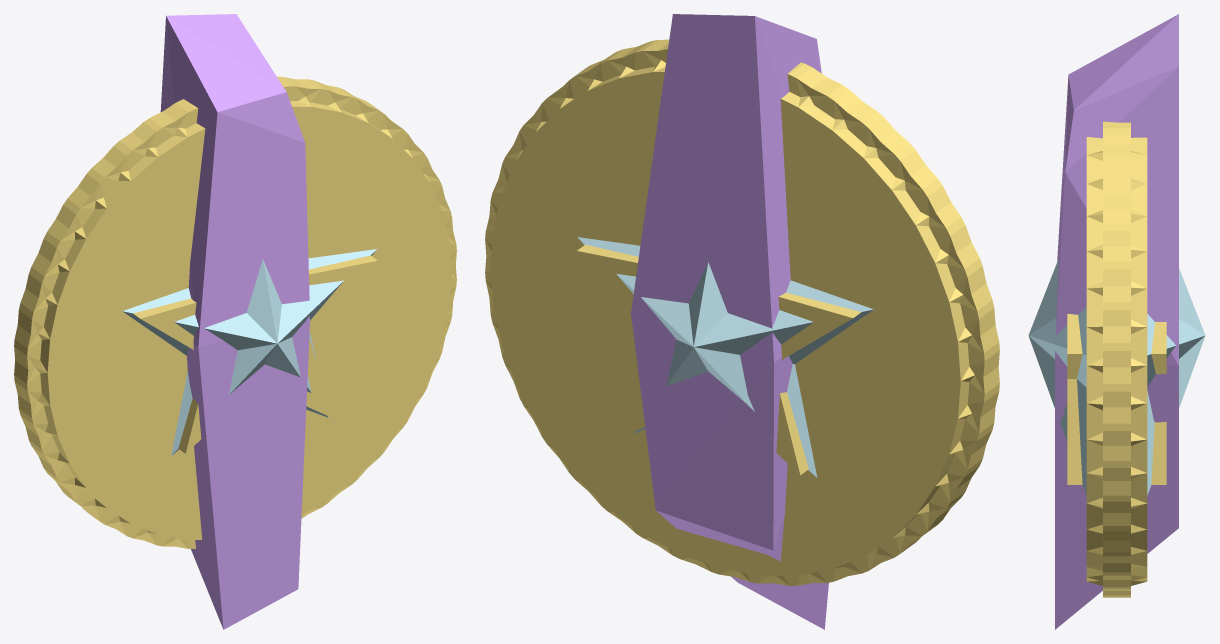
The model's file is Hub_Pickups.fbx.
3 views of the same model, side by side, from view 1: azimuth 30°, elevation 25°; view 2: azimuth 150°, elevation 25°; view 3: azimuth 270°, elevation 25° (orthographic). The views are drawn at different scales.
Visible parts, largest first — view 1: HeroToken__1, Fractal__1, Star__1; view 2: HeroToken__1, Fractal__1, Star__1; view 3: HeroToken__1, Fractal__1, Star__1.
Part boxes in pixels (box(x1,y1,x2,y2)): HeroToken__1: box(14, 76, 456, 548); Fractal__1: box(160, 14, 309, 629); Star__1: box(122, 249, 376, 455); HeroToken__1: box(485, 39, 999, 585); Fractal__1: box(631, 14, 828, 629); Star__1: box(577, 237, 873, 477); HeroToken__1: box(1067, 121, 1166, 597); Fractal__1: box(1055, 14, 1178, 629); Star__1: box(1028, 258, 1205, 495).
Size of the model in its own units: 1.89 by 2.4 by 0.64.
